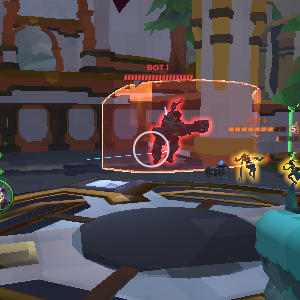model: (153, 98, 193, 173), (236, 147, 263, 183), (283, 156, 299, 193)
